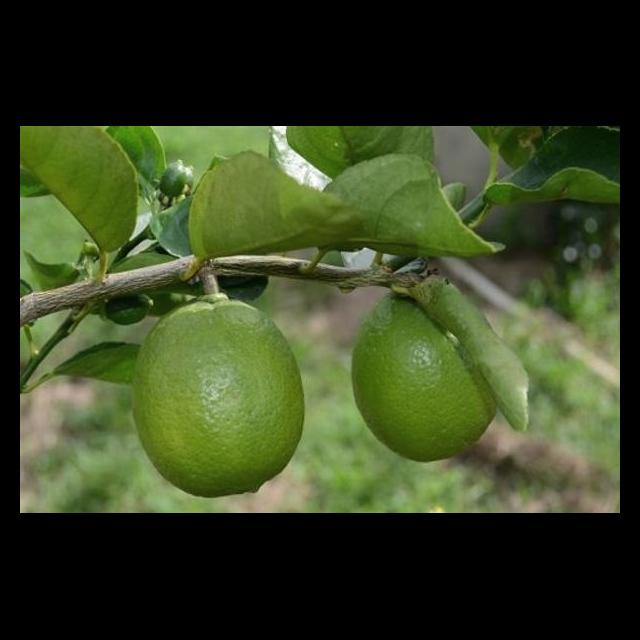lime: (128, 287, 310, 503), (347, 275, 506, 467)
